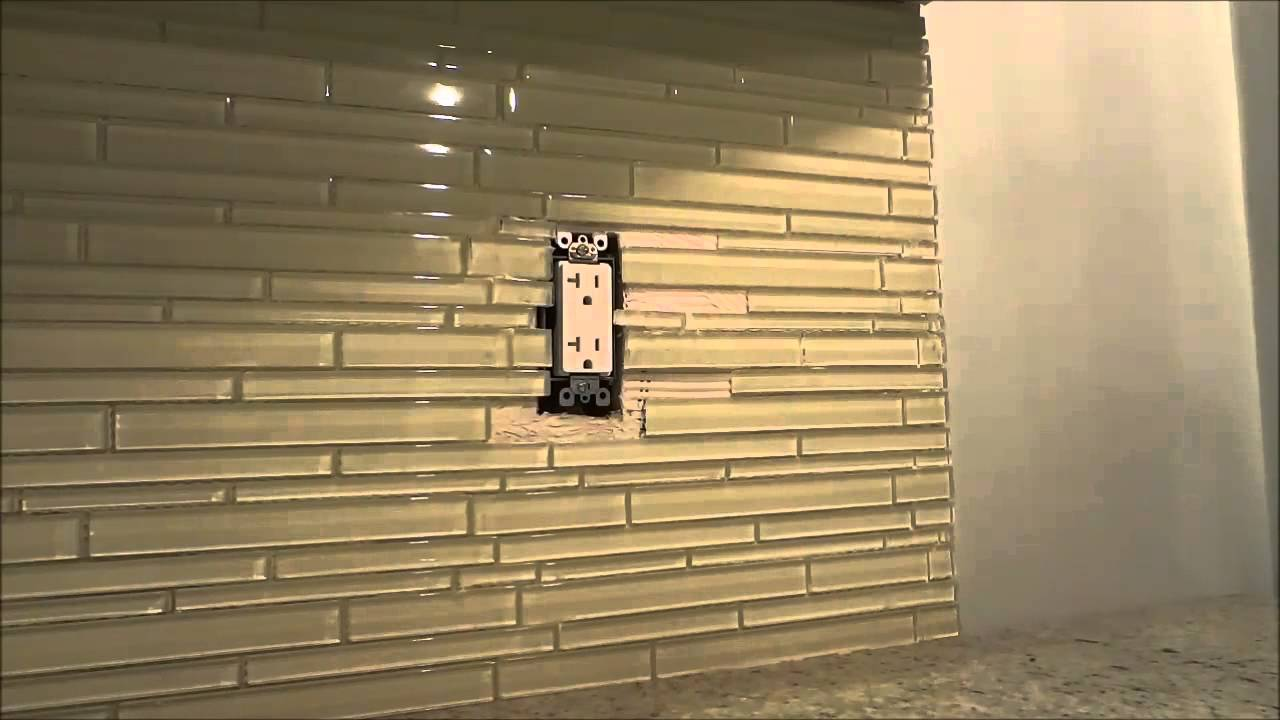outlet: (563, 266, 606, 309), (562, 331, 606, 370)
